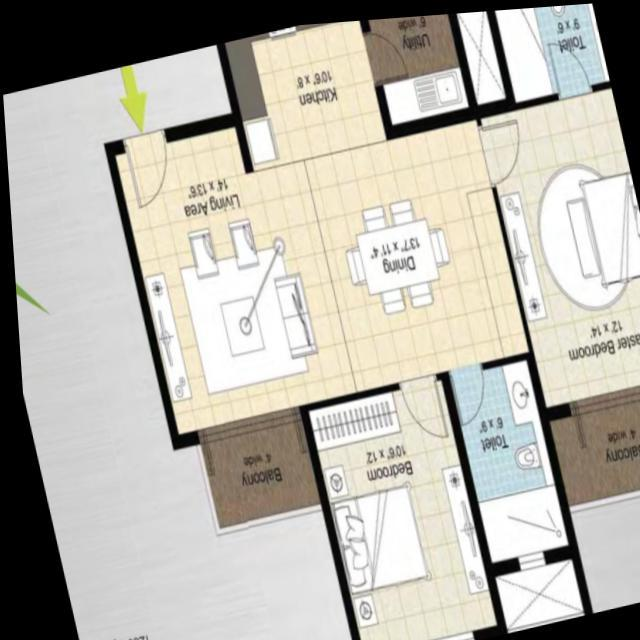Balcony-Sitout: (194, 402, 311, 517), (543, 398, 640, 504)
Bedroom: (298, 371, 499, 640)
Bedroom with Toilet: (477, 3, 640, 414)
Dining: (330, 176, 463, 326)
Enterance-Foyer: (109, 78, 181, 203)
Kitchen: (224, 16, 384, 163)
Living: (124, 156, 352, 425)
Toilet: (445, 345, 574, 571), (496, 3, 609, 98)
Utility: (364, 11, 481, 131)
